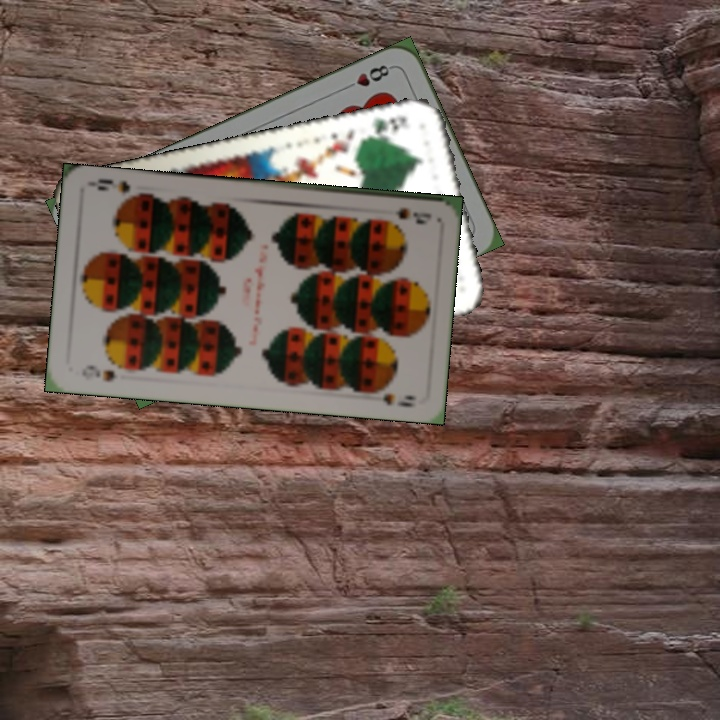GK: (364, 112, 412, 142)
H8: (340, 60, 396, 93)
S9: (390, 204, 435, 227), (77, 361, 119, 384)
